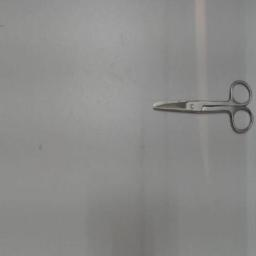Dressing Scissors: (150, 74, 254, 140)
